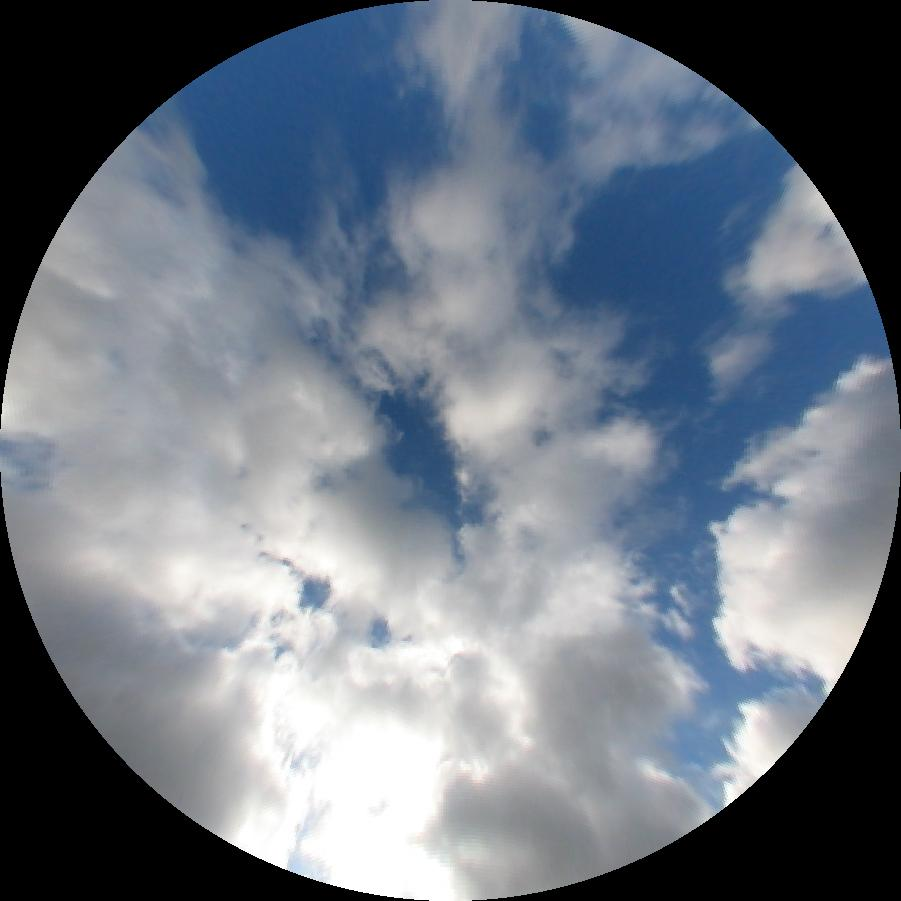sun: (323, 727, 432, 880)
